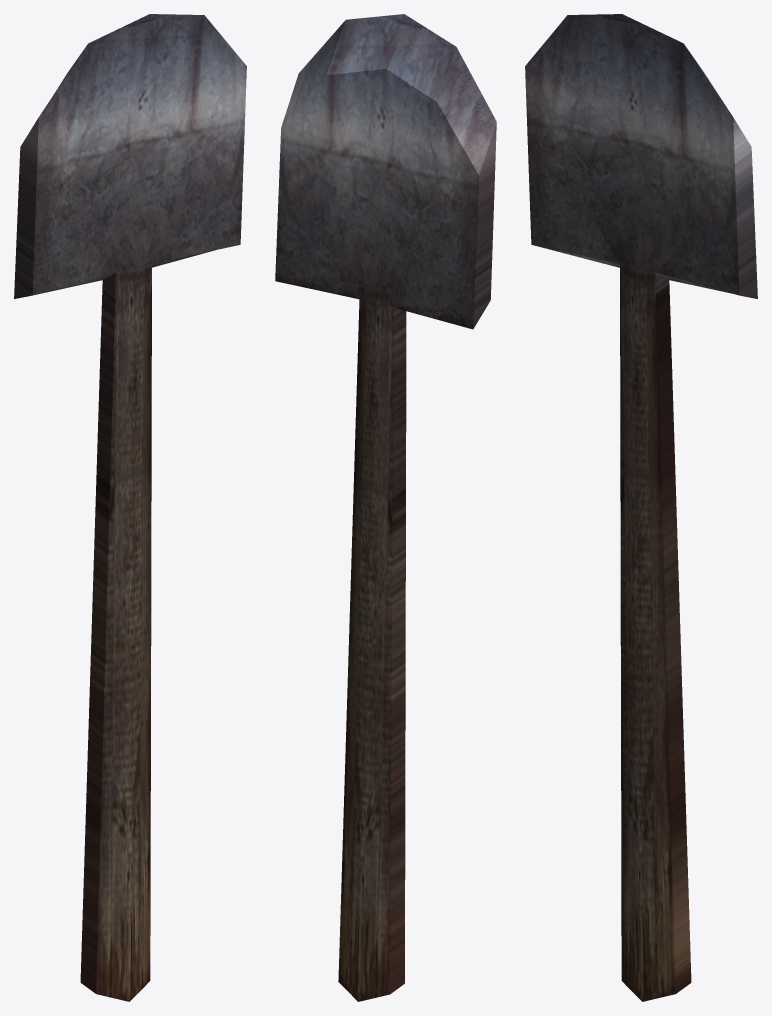
Rendered from shovel.fbx.
3 renders of one model, left to right at view 1: azimuth 30°, elevation 25°; view 2: azimuth 150°, elevation 25°; view 3: azimuth 330°, elevation 25°, orthographic. The views are drawn at different scales.
Visible parts, largest first — view 1: shovel; view 2: shovel; view 3: shovel.
Part boxes in pixels (<box>): shovel: <box>14,14,246,1001</box>; shovel: <box>275,14,496,1001</box>; shovel: <box>525,14,757,1001</box>.
Size of the model in its own units: 0.1629 by 0.75 by 0.0657.
